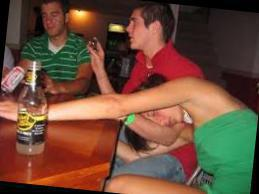Drunk: (139, 103, 186, 129), (124, 9, 150, 49), (41, 5, 64, 36)
